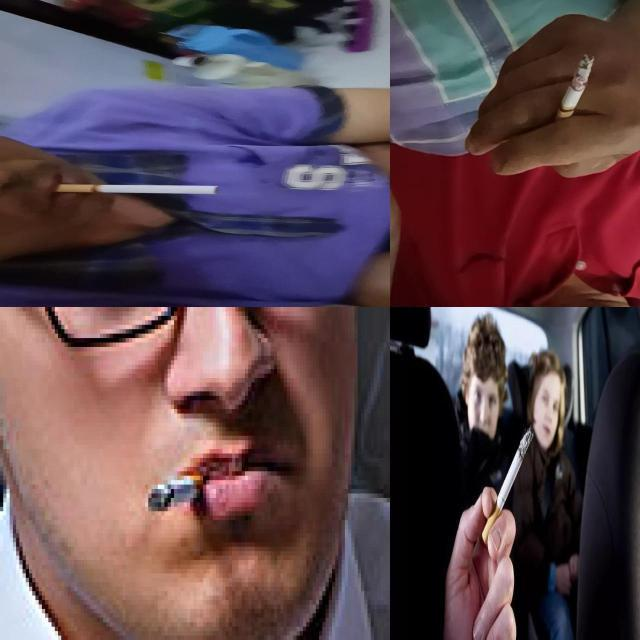smoking: (482, 428, 534, 546), (551, 52, 595, 132), (147, 473, 205, 512), (55, 183, 219, 194)
